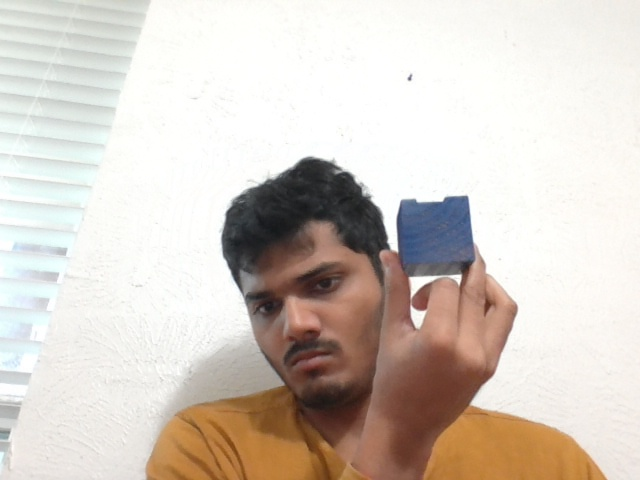BlueBlock: (395, 196, 475, 267)
